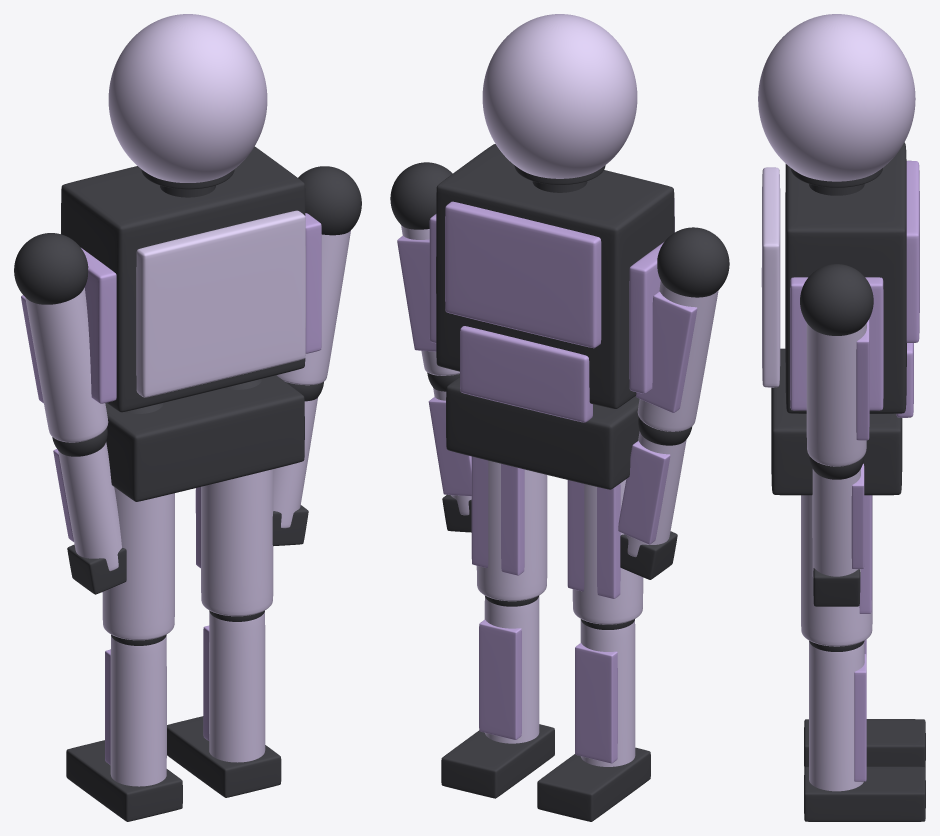
File: Dummy_Mannequin_Lavender_Hier_Hi.fbx
3 views of the same model, side by side, from view 1: azimuth 30°, elevation 25°; view 2: azimuth 150°, elevation 25°; view 3: azimuth 270°, elevation 25° (orthographic). The views are drawn at different scales.
Visible parts, largest first — view 1: Panel_Back, HeadMesh, ChestPlate, PelvisMesh, UpperLegMesh_R, UpperLegMesh_L, LowerLegMesh_L, LowerLegMesh_R, UpperArmMesh_L, LowerArmMesh_L, FootMesh_L, FootMesh_R (+11 smaller); view 2: ChestPlate, HeadMesh, Panel_Chest, PelvisMesh, Panel_Abs, UpperLegMesh_R, FootMesh_R, FootMesh_L, ShinPanel_L, ShinPanel_R, ThighPanel_L, ThighPanel_R (+17 smaller); view 3: HeadMesh, ChestPlate, UpperArmMesh_R, PelvisMesh, LowerLegMesh_R, FootMesh_R, Shoulder_R, Panel_Back, UpperLegMesh_R, LowerArmMesh_R, Panel_Side_R, FootMesh_L (+10 smaller).
Boxes of the visible parts, bbox=[...] form: Panel_Back: bbox=[136, 210, 305, 397]; HeadMesh: bbox=[108, 14, 267, 182]; ChestPlate: bbox=[61, 146, 305, 412]; PelvisMesh: bbox=[105, 375, 304, 501]; UpperLegMesh_R: bbox=[201, 469, 273, 616]; UpperLegMesh_L: bbox=[102, 487, 174, 640]; LowerLegMesh_L: bbox=[110, 635, 166, 786]; LowerLegMesh_R: bbox=[209, 611, 265, 762]; UpperArmMesh_L: bbox=[25, 287, 108, 442]; LowerArmMesh_L: bbox=[58, 442, 121, 571]; FootMesh_L: bbox=[66, 740, 182, 821]; FootMesh_R: bbox=[167, 716, 281, 797]; ChestPlate: bbox=[436, 144, 674, 408]; HeadMesh: bbox=[482, 14, 637, 178]; Panel_Chest: bbox=[445, 201, 601, 348]; PelvisMesh: bbox=[446, 377, 639, 489]; Panel_Abs: bbox=[460, 326, 592, 422]; UpperLegMesh_R: bbox=[476, 460, 547, 601]; FootMesh_R: bbox=[441, 724, 554, 798]; FootMesh_L: bbox=[537, 747, 650, 821]; ShinPanel_L: bbox=[575, 643, 617, 763]; ShinPanel_R: bbox=[479, 619, 521, 739]; ThighPanel_L: bbox=[567, 480, 620, 598]; ThighPanel_R: bbox=[471, 456, 524, 575]; HeadMesh: bbox=[758, 14, 915, 181]; ChestPlate: bbox=[785, 142, 906, 413]; UpperArmMesh_R: bbox=[806, 323, 866, 466]; PelvisMesh: bbox=[771, 348, 902, 495]; LowerLegMesh_R: bbox=[809, 642, 864, 791]; FootMesh_R: bbox=[804, 766, 925, 821]; Shoulder_R: bbox=[800, 264, 873, 335]; Panel_Back: bbox=[761, 167, 780, 387]; UpperLegMesh_R: bbox=[801, 495, 872, 646]; LowerArmMesh_R: bbox=[812, 469, 860, 577]; Panel_Side_R: bbox=[790, 277, 883, 410]; FootMesh_L: bbox=[804, 719, 925, 768].
Bounding box in the file's own units: 0.8241 × 1.8 × 0.3578.
